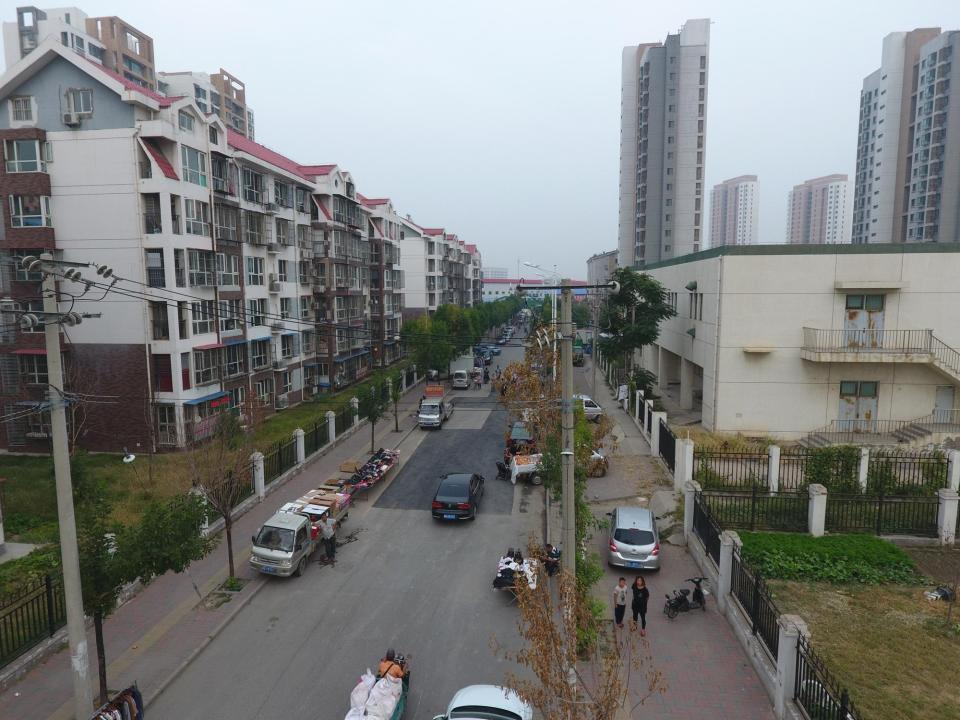car: (606, 507, 662, 572), (431, 472, 484, 520), (506, 422, 540, 453), (472, 344, 501, 354), (477, 350, 494, 366), (495, 335, 506, 345), (501, 333, 511, 341), (505, 326, 515, 334), (502, 330, 511, 337)
truck: (250, 490, 348, 578), (514, 442, 608, 484), (426, 354, 474, 382), (418, 396, 452, 429), (555, 329, 583, 366), (575, 329, 610, 350), (529, 363, 544, 386)
van: (548, 393, 606, 423), (453, 369, 471, 389)
